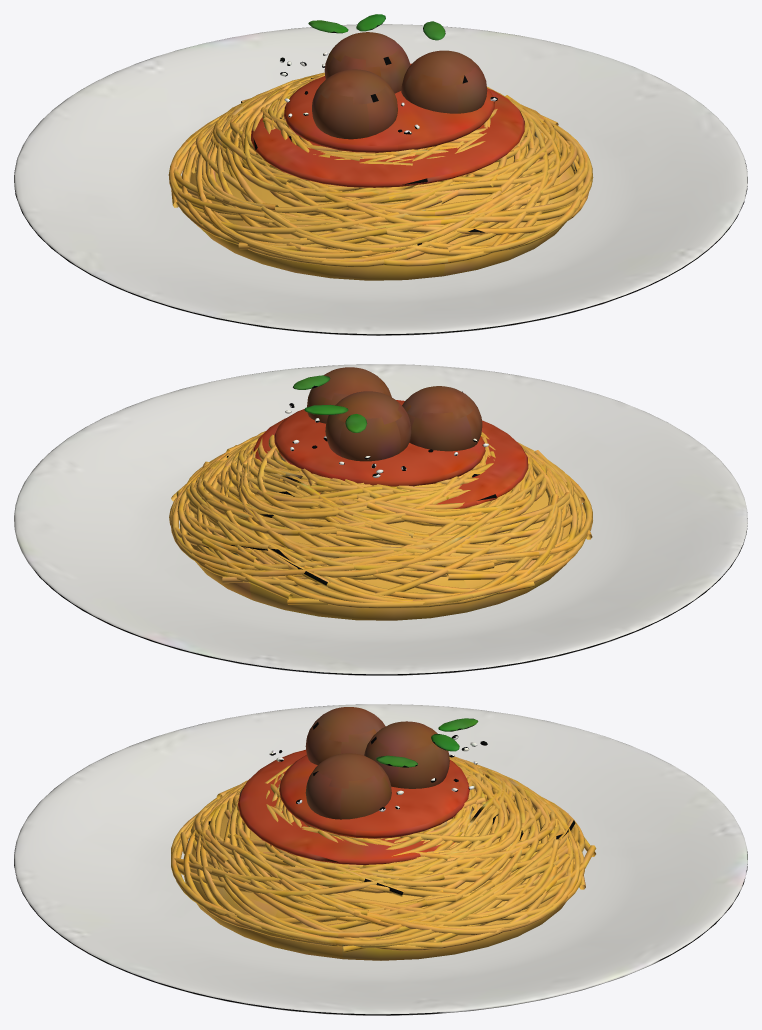
The model's file is pasta.glb.
The picture shows the model from 3 angles, top to bottom: view 1: azimuth 30°, elevation 25°; view 2: azimuth 150°, elevation 25°; view 3: azimuth 270°, elevation 25°; orthographic projection.
Parts seen in each view (by area): view 1: pasta; view 2: pasta; view 3: pasta.
Boxes of the visible parts, x1,y1,x2,y2 form: pasta: (14,14,747,335); pasta: (14,364,747,675); pasta: (14,704,747,1015).
Size of the model in its own units: 0.2963 by 0.0883 by 0.2963.
1 material, 1 textured.
